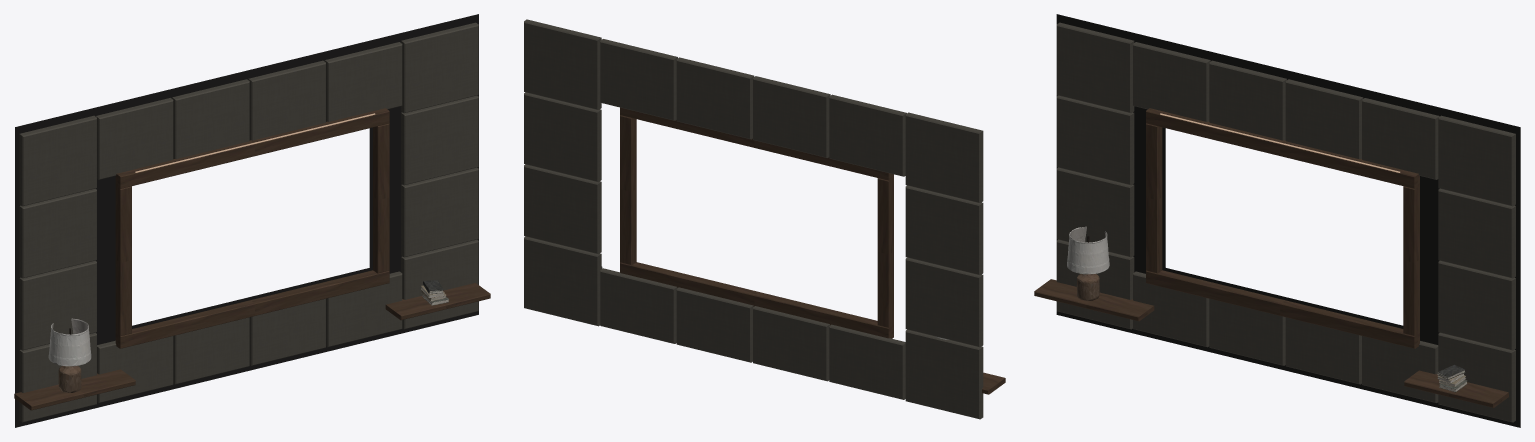
Rendered from frame_linen.glb.
3 views of the same model, side by side, from view 1: azimuth 30°, elevation 25°; view 2: azimuth 150°, elevation 25°; view 3: azimuth 330°, elevation 25° (orthographic).
Visible parts, largest first — view 1: acoustic-tiles, backing, trim, prop-lamp, ledge-l, ledge-r, prop-books, led; view 2: acoustic-tiles, trim; view 3: acoustic-tiles, backing, trim, prop-lamp, ledge-l, ledge-r, prop-books, led.
Part boxes in pixels (<box>): acoustic-tiles: <box>19,22,478,422</box>; backing: <box>15,14,478,427</box>; trim: <box>115,108,389,348</box>; prop-lamp: <box>48,318,91,392</box>; ledge-l: <box>14,369,135,410</box>; ledge-r: <box>385,283,490,320</box>; prop-books: <box>421,280,448,305</box>; led: <box>135,113,375,172</box>; acoustic-tiles: <box>524,19,983,419</box>; trim: <box>620,107,893,338</box>; acoustic-tiles: <box>1056,22,1515,422</box>; backing: <box>1056,14,1520,427</box>; trim: <box>1146,108,1419,348</box>; prop-lamp: <box>1067,226,1109,300</box>; ledge-l: <box>1034,279,1154,321</box>; ledge-r: <box>1404,370,1508,407</box>; prop-books: <box>1437,364,1467,392</box>; led: <box>1160,113,1400,172</box>.
Bounding box in the file's own units: 3.12 × 1.92 × 0.2591.
6 materials, 4 textured.
